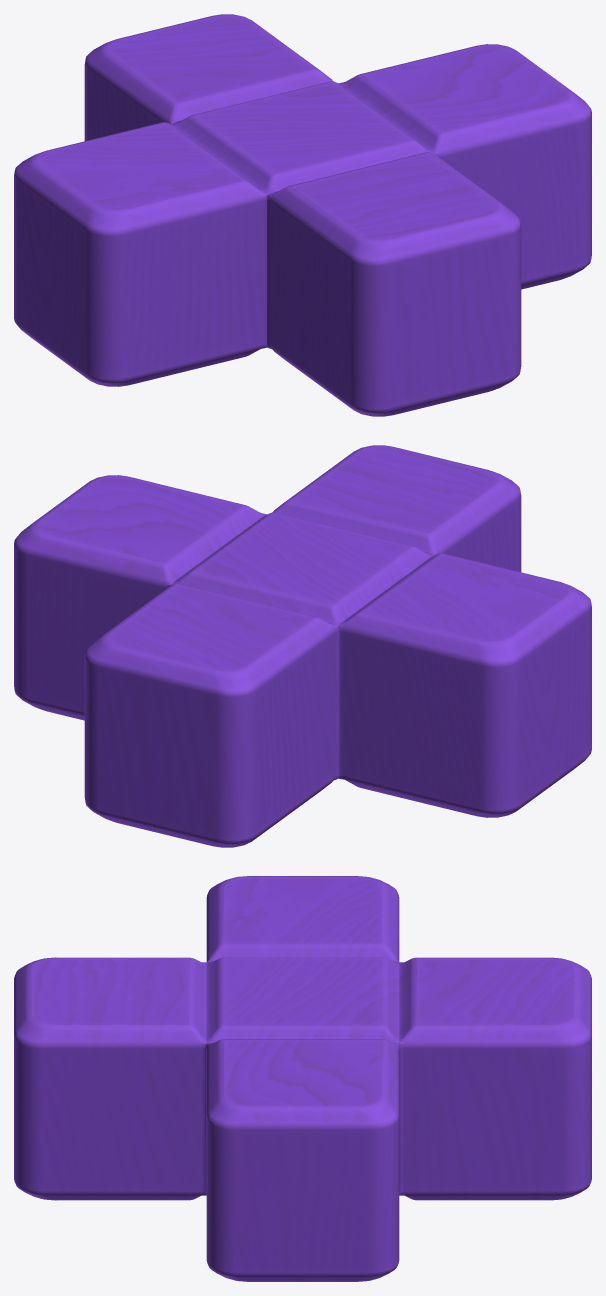
Rendered from Block_03.fbx.
3 views of the same model, one above another, from view 1: azimuth 30°, elevation 25°; view 2: azimuth 150°, elevation 25°; view 3: azimuth 270°, elevation 25° (orthographic).
Visible parts, largest first — view 1: Block_03; view 2: Block_03; view 3: Block_03.
Part boxes in pixels (x1=…): Block_03: x1=14, y1=14, x2=591, y2=416; Block_03: x1=14, y1=445, x2=591, y2=847; Block_03: x1=14, y1=876, x2=591, y2=1281.
Bounding box in the file's own units: 3 × 1 × 3.
Materials: 1 (1 with a texture image).
